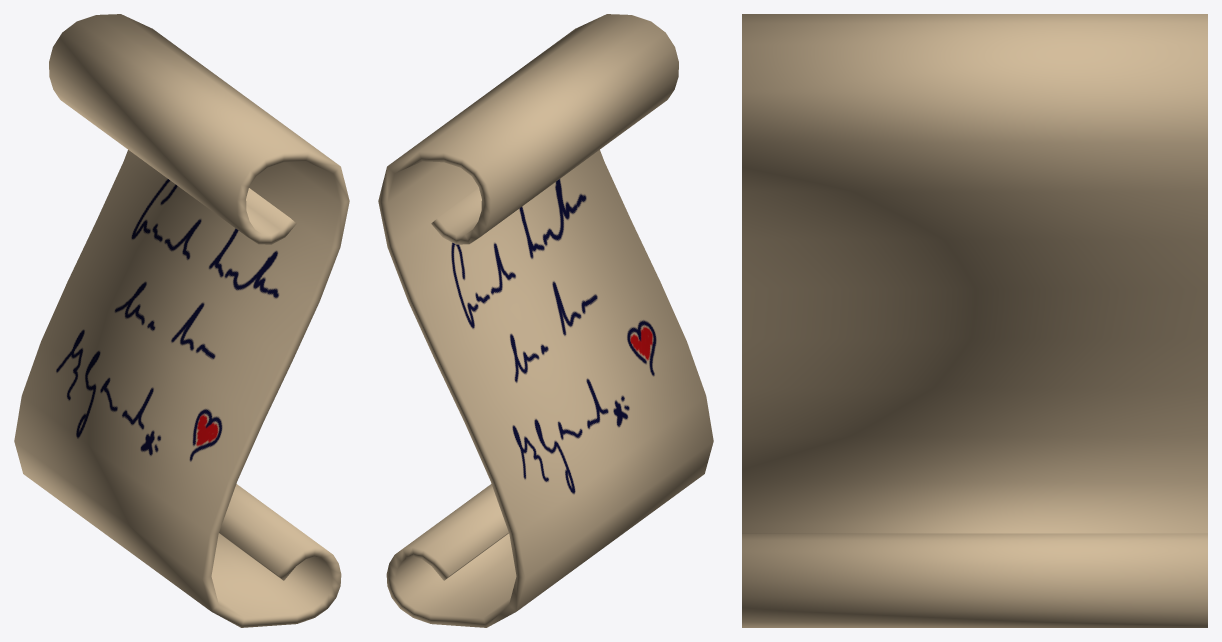
Rendered from Notiz.fbx.
3 views of the same model, side by side, from view 1: azimuth 30°, elevation 25°; view 2: azimuth 150°, elevation 25°; view 3: azimuth 270°, elevation 25° (orthographic). The views are drawn at different scales.
Parts seen in each view (by area): view 1: BezierCurve; view 2: BezierCurve; view 3: BezierCurve.
Part boxes in pixels (x1,y1,x2,y2): BezierCurve: [14, 14, 349, 627]; BezierCurve: [378, 14, 713, 627]; BezierCurve: [742, 14, 1207, 627].
Bounding box in the file's own units: 48.46 × 149 × 107.
